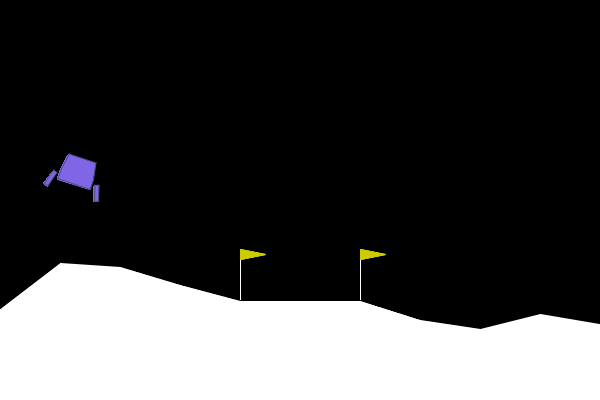lander: (42, 147, 111, 204)
